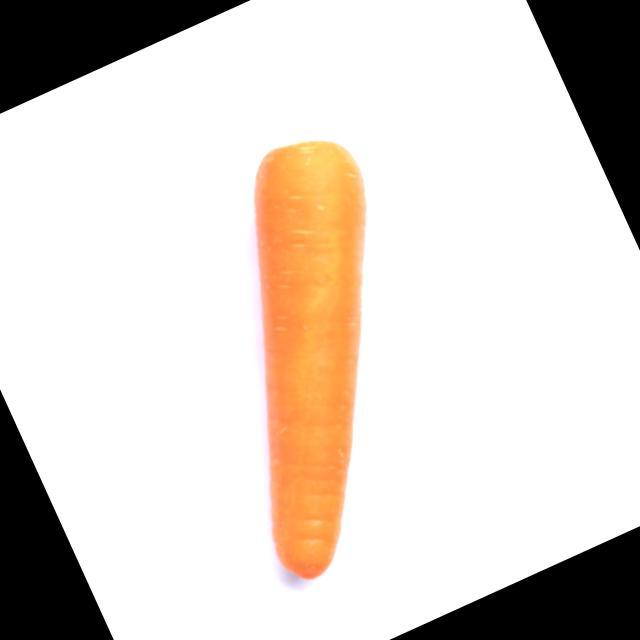carrot: (255, 141, 365, 578)
